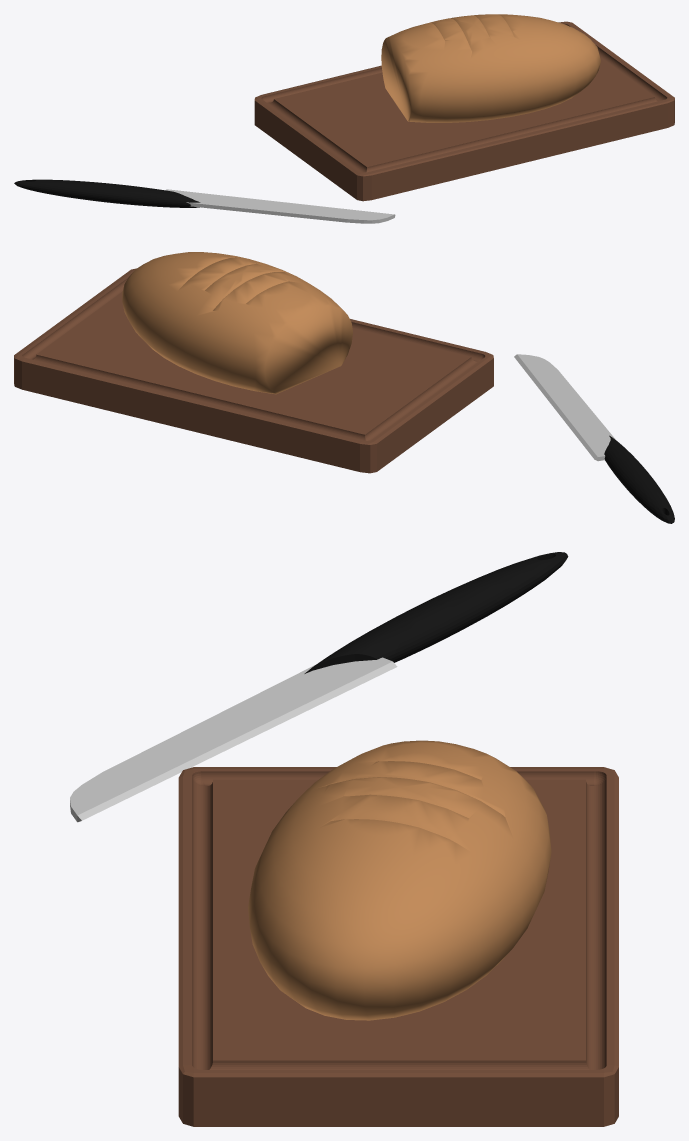
File: bread.fbx
3 views of the same model, one above another, from view 1: azimuth 30°, elevation 25°; view 2: azimuth 150°, elevation 25°; view 3: azimuth 270°, elevation 25° (orthographic). The views are drawn at different scales.
Visible parts, largest first — view 1: leikkuulauta, leipä, kahva, veitsi; view 2: leikkuulauta, leipä, veitsi, kahva; view 3: leikkuulauta, leipä, veitsi, kahva.
Part boxes in pixels (x1,y1,x2,y2): leikkuulauta: (254,21,674,201); leipä: (381,14,600,122); kahva: (14,179,200,207); veitsi: (166,189,395,223); leikkuulauta: (14,268,493,473); leipä: (122,252,352,394); veitsi: (514,354,616,461); kahva: (604,435,674,523); leikkuulauta: (178,767,618,1126); leipä: (248,740,551,1020); veitsi: (70,657,397,822); kahva: (304,552,568,673).
Bounding box in the file's own units: 81.78 × 13.45 × 34.25.
